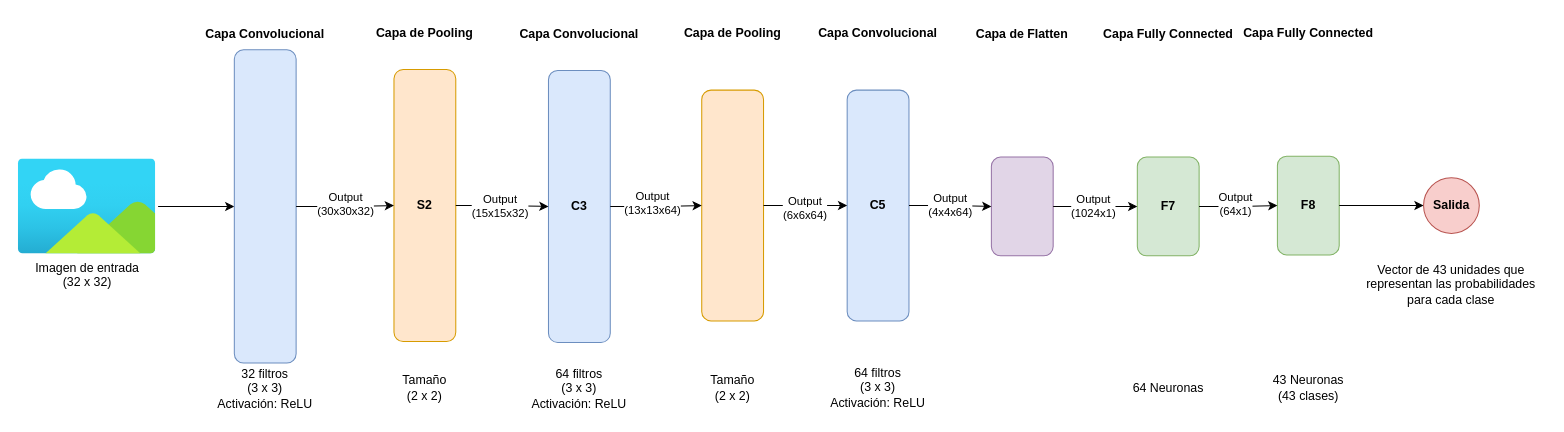
This 1564x432 diagram has some shape labels left out. Here are the shapes that lost their labels. From the top down, the centre of each, then its label:
At point 264,206: "C1".
At point 732,205: "S4".
At point 1021,206: "F6".
